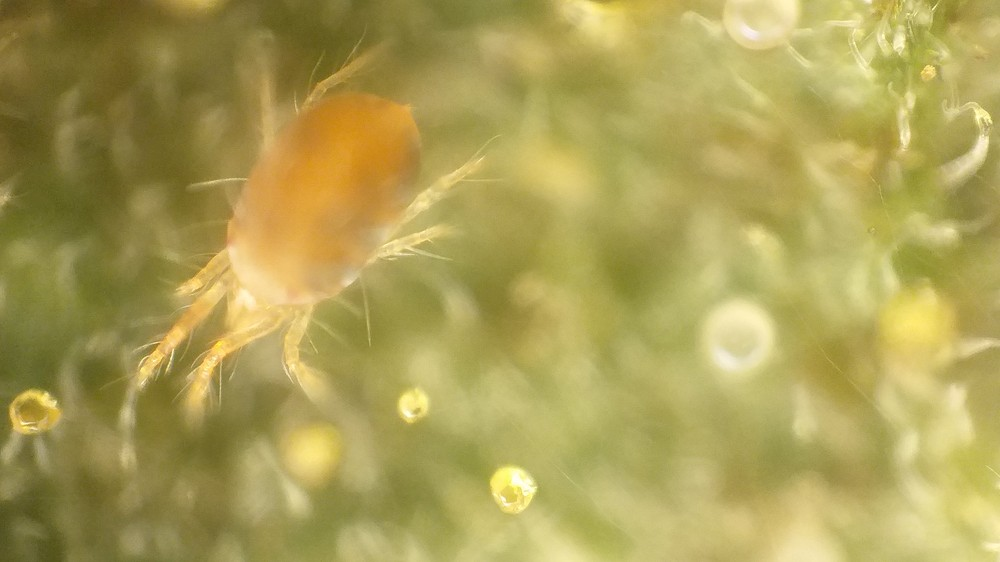Aracnido Rojo: (119, 45, 490, 422)
